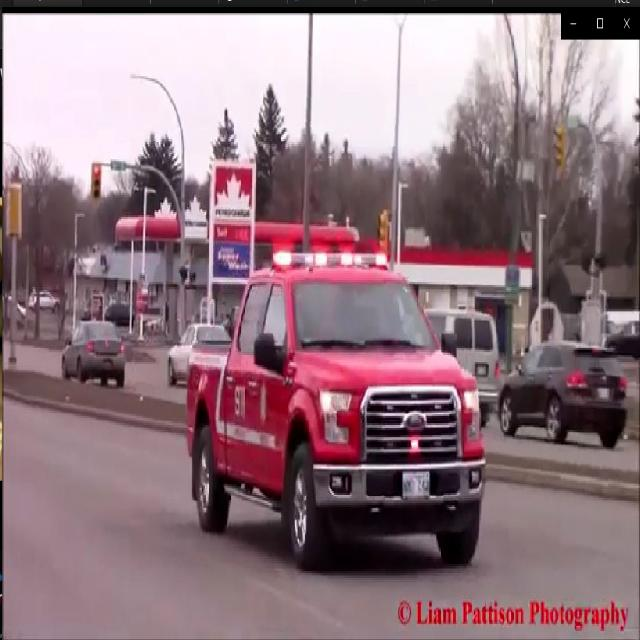emergency: (180, 242, 488, 577)
